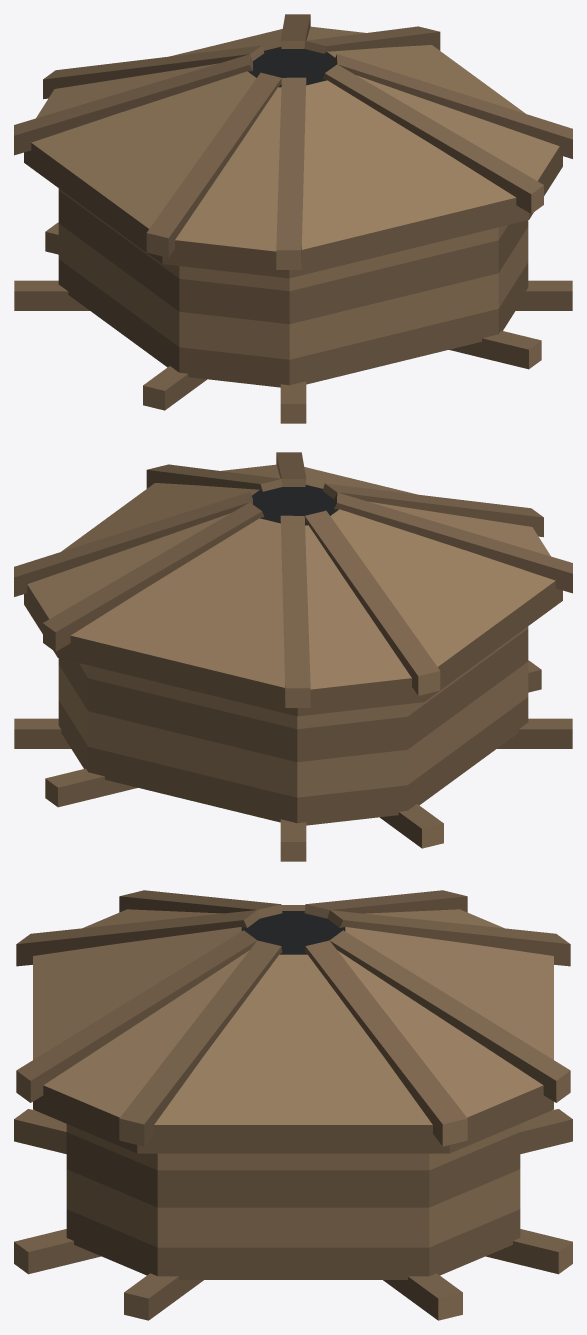
Rendered from SM_Bld_Knights_Castle_06.glb.
3 renders of one model, top to bottom at view 1: azimuth 30°, elevation 25°; view 2: azimuth 150°, elevation 25°; view 3: azimuth 270°, elevation 25°, orthographic. The views are drawn at different scales.
Parts seen in each view (by area): view 1: SM_Bld_Knights_Castle_06; view 2: SM_Bld_Knights_Castle_06; view 3: SM_Bld_Knights_Castle_06.
Part boxes in pixels (x1,y1,x2,y2): SM_Bld_Knights_Castle_06: (14, 14, 572, 423); SM_Bld_Knights_Castle_06: (14, 452, 572, 861); SM_Bld_Knights_Castle_06: (14, 890, 572, 1320).
Size of the model in its own units: 1.12 by 0.6132 by 1.12.
Materials: 1 (1 with a texture image).
